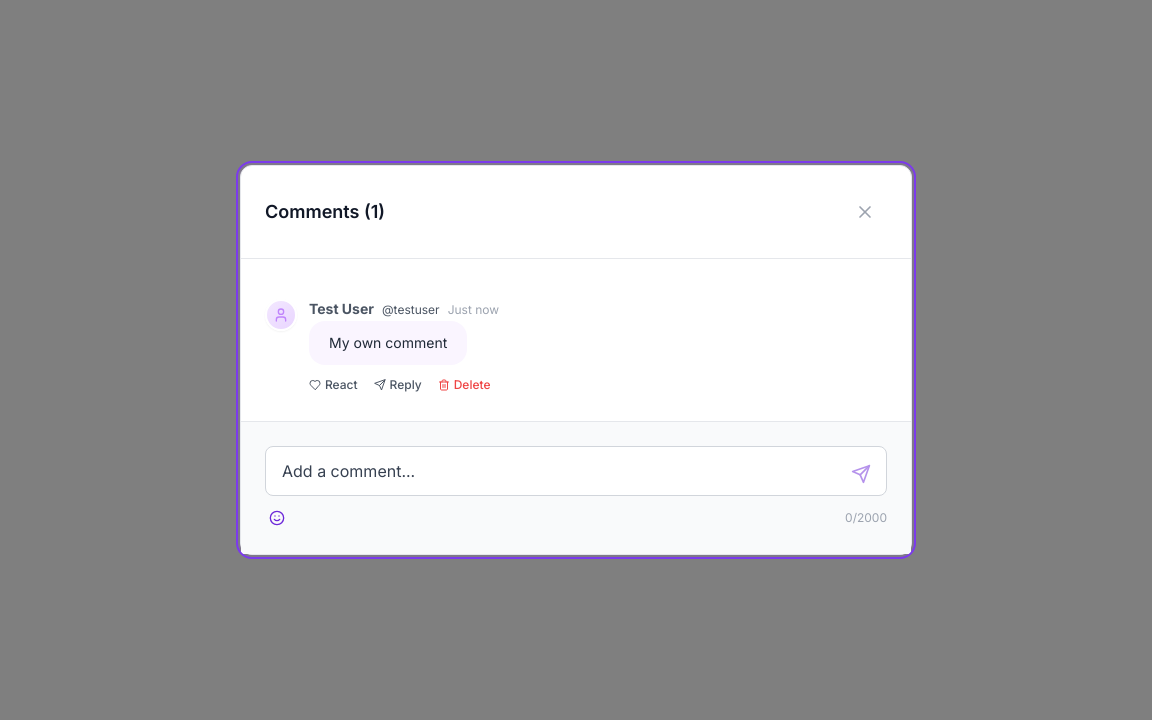
Test: CommentsModal › renders delete confirmation with data attribute for scroll targeting
Click the button with aria-label "Delete comment" at (464,385), box [438,377,490,393]
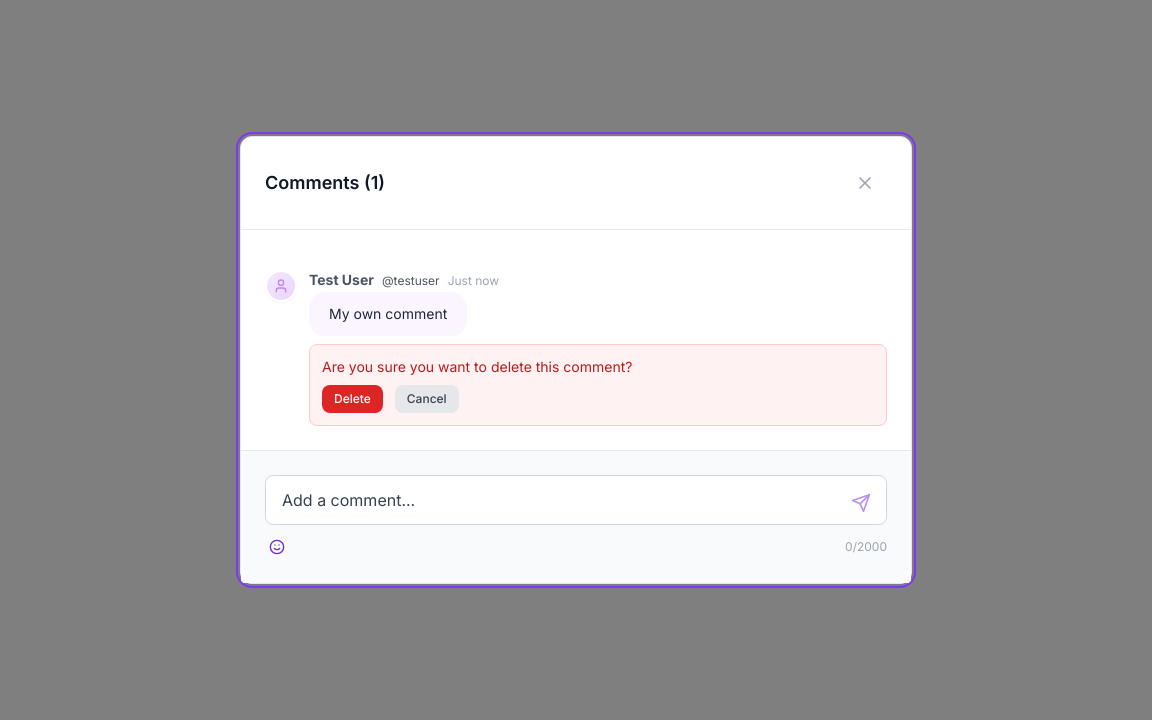
Result: the element showing "Are you sure you want to delete this comment? Delete Cancel" is shown at [309,344,887,426]
Result: the text "Are you sure you want to delete this comment?" is shown at [322,358,632,375]
Result: the button "Cancel" is shown at [395,385,459,413]
